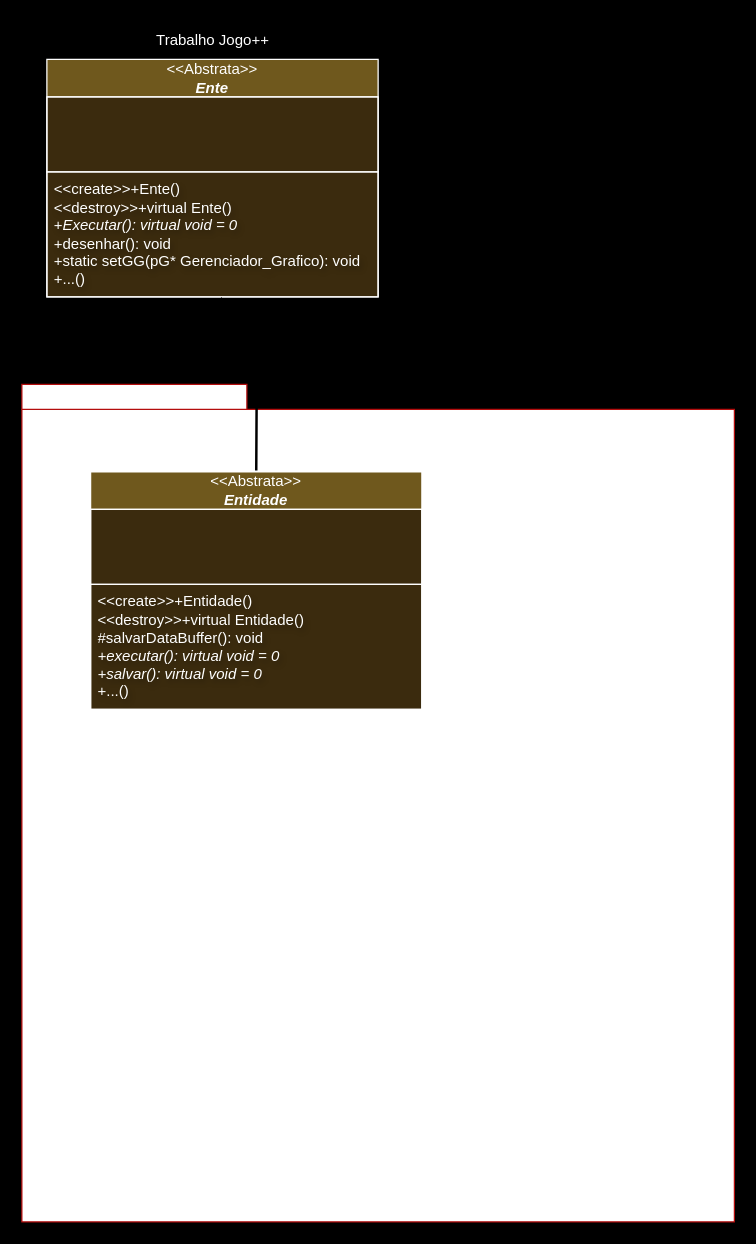
The diagram is 756 pixels wide and 1244 high, and some of its shapes have lost their labels. The centre of each missing label's shape, as x and y in pixels:
"#id: int #pGG: static *Gerenciador_Grafico #pFig: *Figura #..." belongs at (x=212, y=134).
"#x: int #y: int #... #buffer: ostream" belongs at (x=255, y=546).
